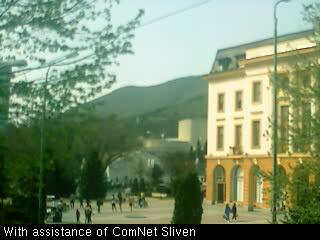person: (223, 204, 231, 222), (84, 205, 92, 223), (231, 202, 238, 222), (138, 192, 145, 208), (96, 197, 103, 213), (75, 208, 82, 223), (117, 194, 123, 210), (111, 196, 117, 210), (69, 196, 75, 210), (129, 199, 134, 213), (85, 197, 91, 208), (78, 197, 84, 207)
